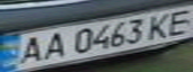0: (69, 25, 97, 55)
3: (124, 16, 151, 45)
4: (90, 21, 115, 52)
6: (109, 19, 133, 48)
A: (12, 34, 48, 66), (36, 29, 69, 61)
E: (160, 7, 193, 36)
K: (142, 11, 178, 40)
